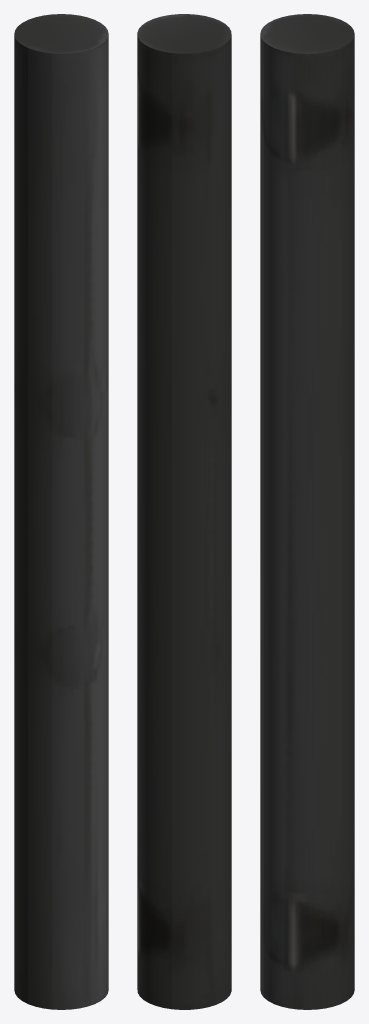
The model's file is center_frame__front_crossmember.glb.
3 views of the same model, side by side, from view 1: azimuth 90°, elevation 25°; view 2: azimuth 210°, elevation 25°; view 3: azimuth 270°, elevation 25° (orthographic).
Parts seen in each view (by area): view 1: world; view 2: world; view 3: world.
Boxes of the visible parts, <box> form: world: <box>14,14,108,1009</box>; world: <box>137,14,231,1009</box>; world: <box>260,14,354,1009</box>.
Size of the model in its own units: 0.034 by 0.38 by 0.034.
1 material, 1 textured.
